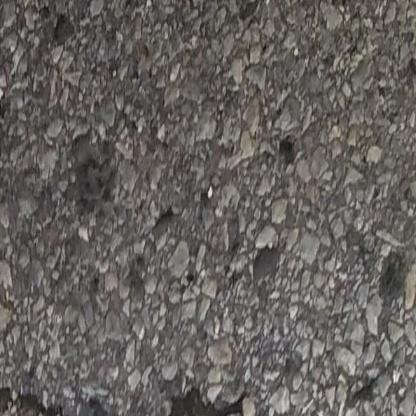Cracks: (0, 384, 253, 416)
